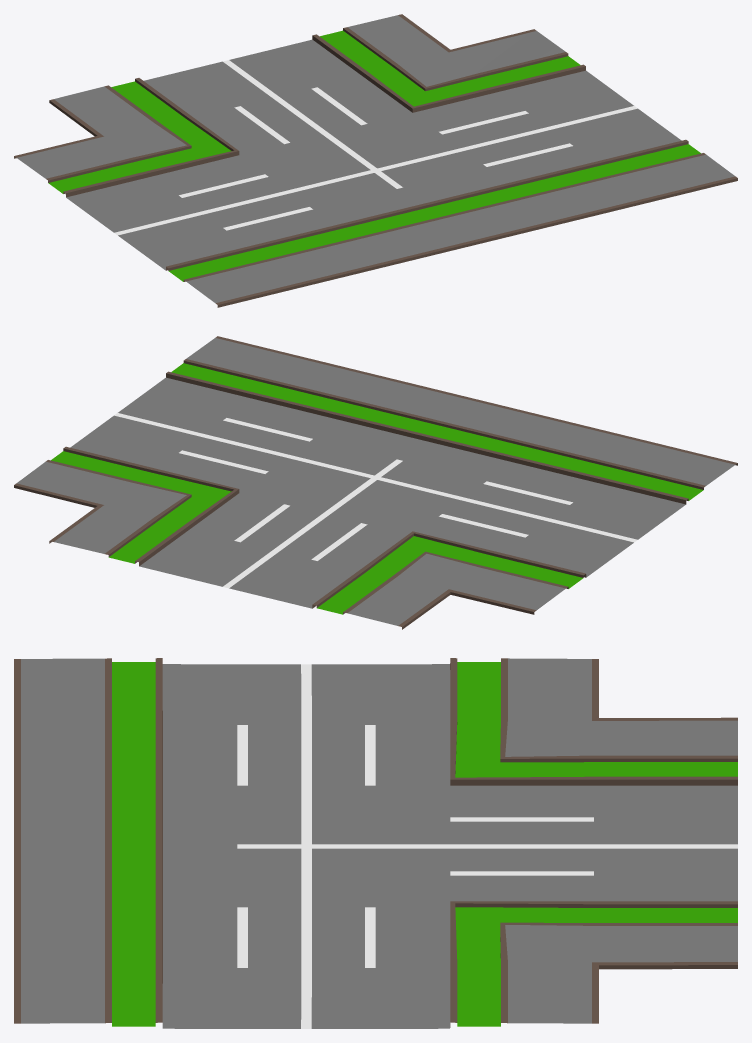
File: SM_Road_P48.fbx
The picture shows the model from 3 angles, top to bottom: view 1: azimuth 30°, elevation 25°; view 2: azimuth 150°, elevation 25°; view 3: azimuth 270°, elevation 25°; orthographic projection. The views are drawn at different scales.
Parts seen in each view (by area): view 1: SM_Road_P48; view 2: SM_Road_P48; view 3: SM_Road_P48.
Part boxes in pixels (x1,y1,x2,y2): SM_Road_P48: (14, 14, 737, 307); SM_Road_P48: (14, 336, 737, 629); SM_Road_P48: (14, 658, 737, 1028).
Size of the model in its own units: 3666 by 28.46 by 3076.
